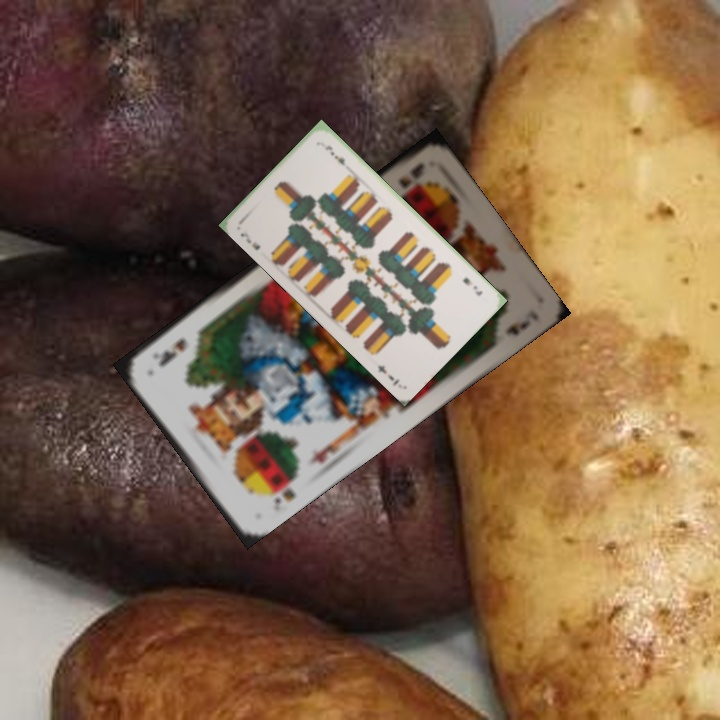E7: (236, 228, 263, 253), (459, 273, 485, 298)
SK: (269, 471, 298, 514), (395, 158, 428, 191)
